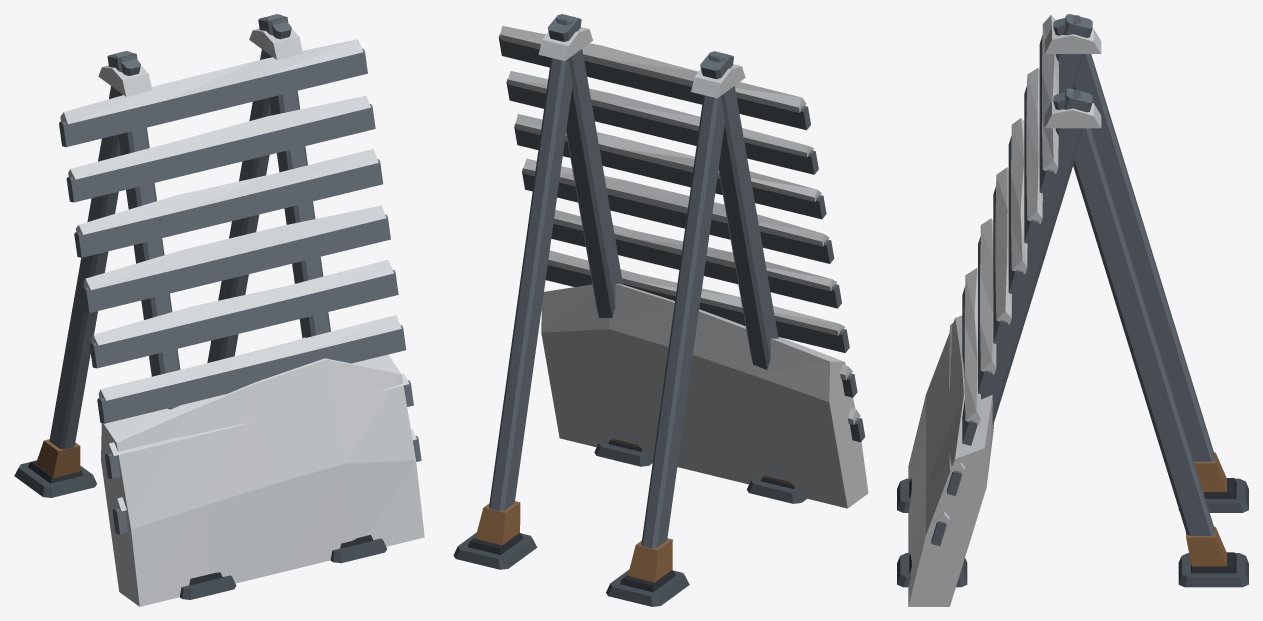
The model's file is avalanche-barrier-run-02a615.glb.
The picture shows the model from 3 angles, left to right: view 1: azimuth 30°, elevation 25°; view 2: azimuth 150°, elevation 25°; view 3: azimuth 270°, elevation 25°; orthographic projection.
Visible parts, largest first — view 1: barrier; view 2: barrier; view 3: barrier.
Part boxes in pixels (x1=…): barrier: x1=14, y1=14, x2=424, y2=606; barrier: x1=453, y1=14, x2=868, y2=606; barrier: x1=897, y1=14, x2=1248, y2=606.
Size of the model in its own units: 2 by 3.02 by 2.
